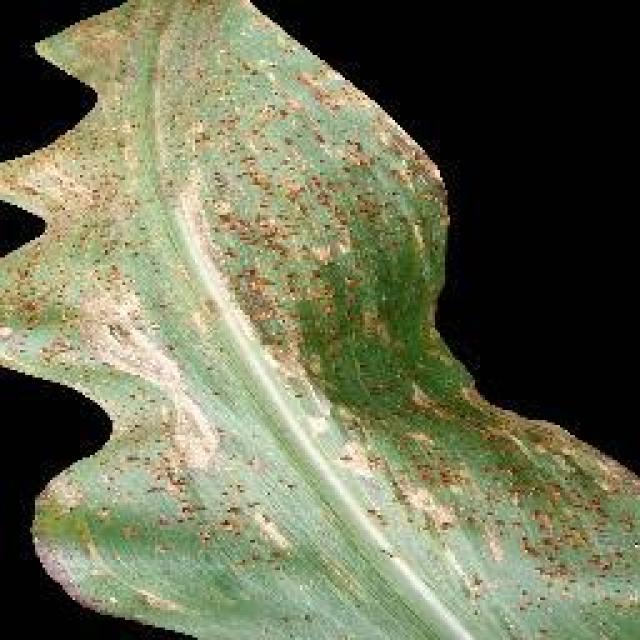Corn Common Rust: (108, 35, 465, 528)
